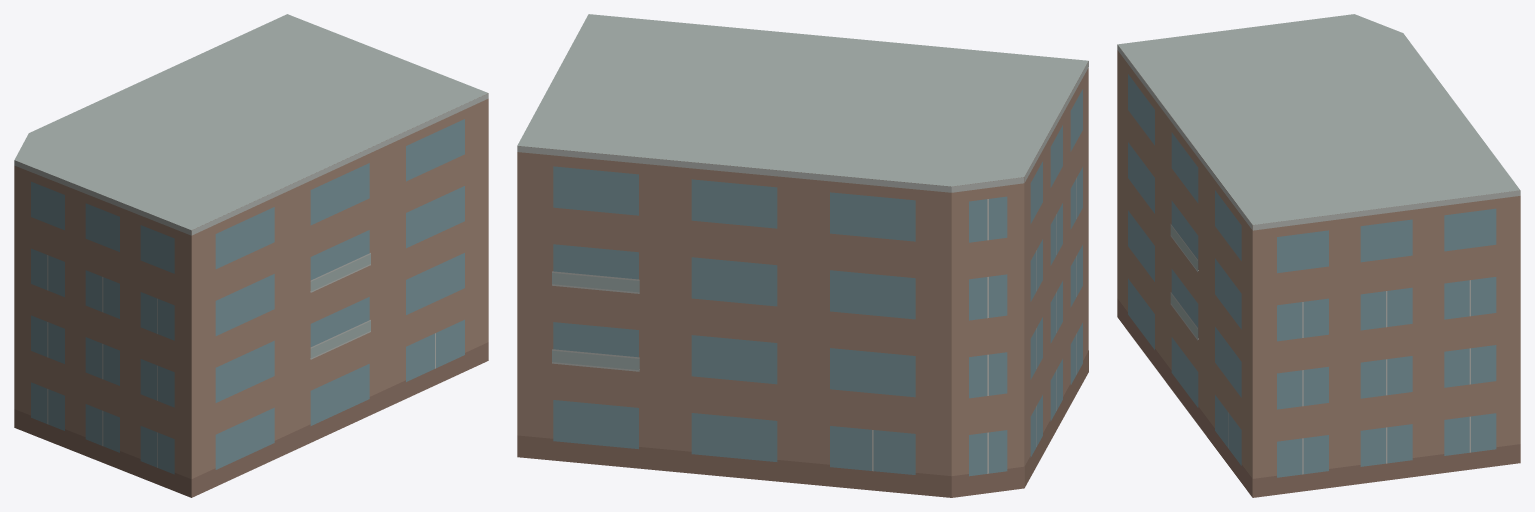
File: survey-upis-33012045.glb
3 views of the same model, side by side, from view 1: azimuth 30°, elevation 25°; view 2: azimuth 150°, elevation 25°; view 3: azimuth 270°, elevation 25° (orthographic). The views are drawn at different scales.
Parts seen in each view (by area): view 1: survey-upis-33012045.tmp; view 2: survey-upis-33012045.tmp; view 3: survey-upis-33012045.tmp.
Boxes of the visible parts, x1,y1,x2,y2 form: survey-upis-33012045.tmp: (14,14,488,497); survey-upis-33012045.tmp: (517,14,1088,497); survey-upis-33012045.tmp: (1117,14,1520,497).
Bounding box in the file's own units: 20.09 × 12.1 × 16.22.
